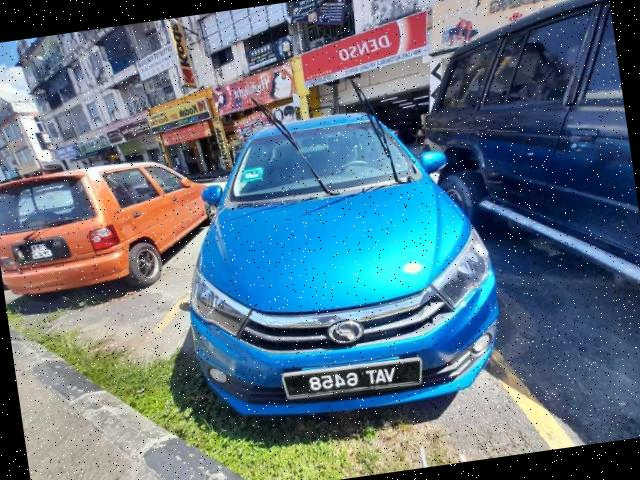License_Plate: (281, 355, 426, 406), (23, 243, 62, 264)
car: (161, 92, 512, 434), (1, 150, 233, 308)
